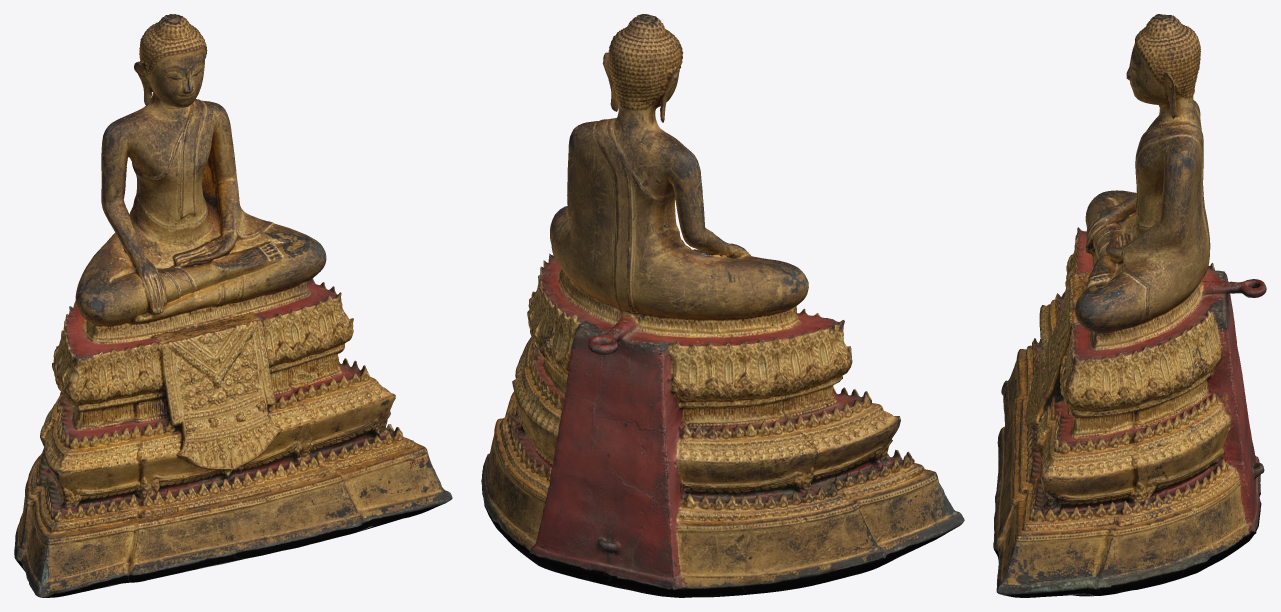
File: buddha-cc0-fallback.glb
3 views of the same model, side by side, from view 1: azimuth 30°, elevation 25°; view 2: azimuth 150°, elevation 25°; view 3: azimuth 270°, elevation 25° (orthographic). The views are drawn at different scales.
Visible parts, largest first — view 1: Object_2; view 2: Object_2; view 3: Object_2.
Boxes of the visible parts, left/top/right/bottom form: Object_2: left=14, top=14, right=452, bottom=597; Object_2: left=481, top=14, right=964, bottom=597; Object_2: left=993, top=14, right=1266, bottom=597.
Bounding box in the file's own units: 0.4469 × 0.5065 × 0.2523.
1 material, 1 textured.
